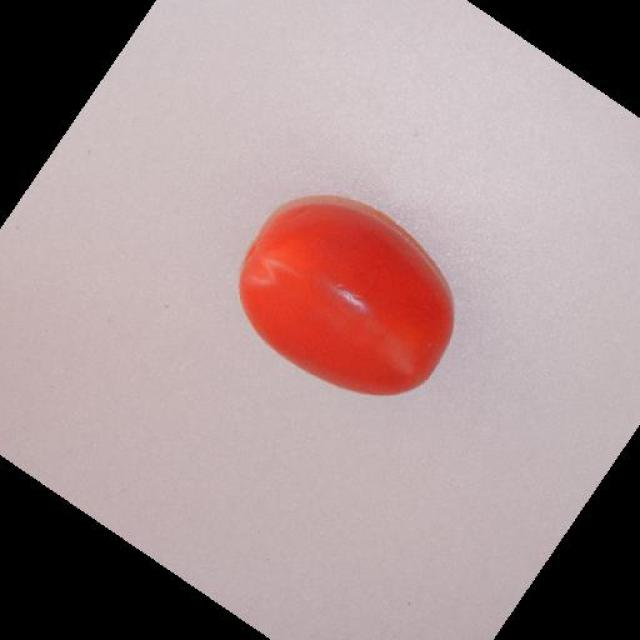ripe tomato: (232, 185, 469, 412)
